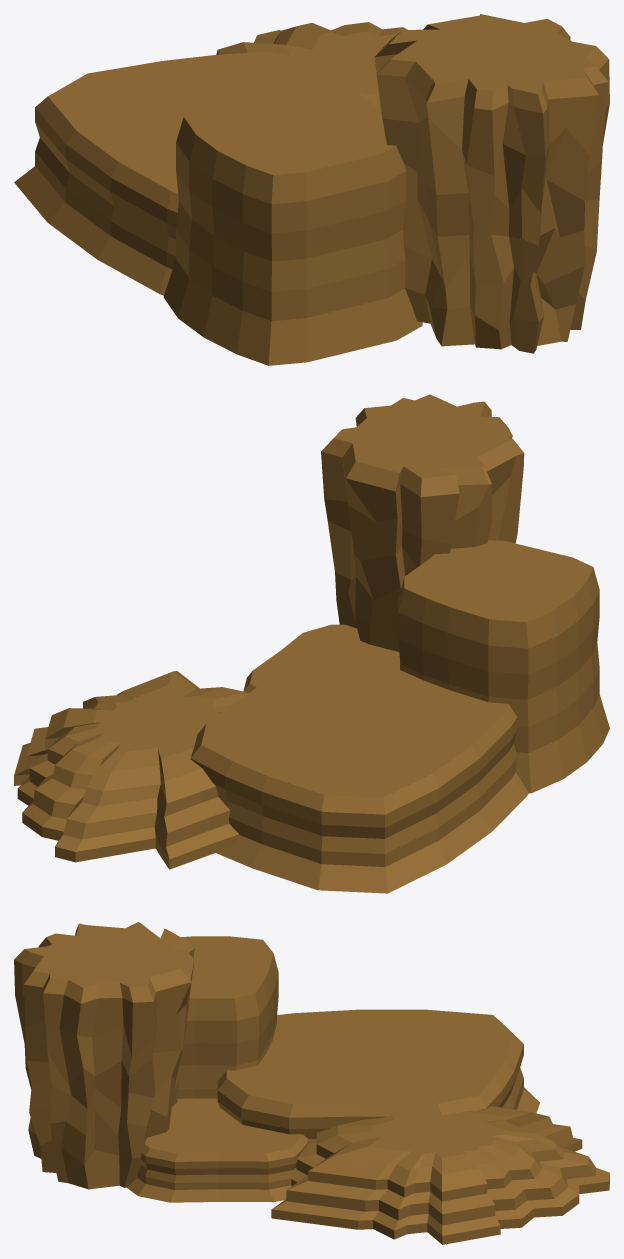
Rendered from BurialGrounds.obj.
The picture shows the model from 3 angles, top to bottom: view 1: azimuth 30°, elevation 25°; view 2: azimuth 150°, elevation 25°; view 3: azimuth 270°, elevation 25°; orthographic projection. The views are drawn at different scales.
Parts seen in each view (by area): view 1: Meshpart2, Meshpart5, Meshpart1, Meshpart3; view 2: Meshpart1, Meshpart5, Meshpart2, Meshpart3, Meshpart4; view 3: Meshpart2, Meshpart3, Meshpart1, Meshpart4, Meshpart5.
Boxes of the visible parts, x1,y1,x2,y2 form: Meshpart2: (374, 14, 609, 353); Meshpart5: (163, 86, 422, 365); Meshpart1: (14, 51, 350, 295); Meshpart3: (216, 22, 407, 110); Meshpart1: (190, 649, 528, 893); Meshpart5: (398, 540, 609, 793); Meshpart2: (321, 394, 524, 651); Meshpart3: (14, 671, 248, 869); Meshpart4: (243, 624, 389, 692); Meshpart2: (14, 922, 194, 1189); Meshpart3: (271, 1106, 609, 1244); Meshpart1: (217, 1009, 539, 1142); Meshpart4: (126, 1098, 308, 1202); Meshpart5: (177, 936, 278, 1098).
Size of the model in its own units: 108 by 58.83 by 152.
